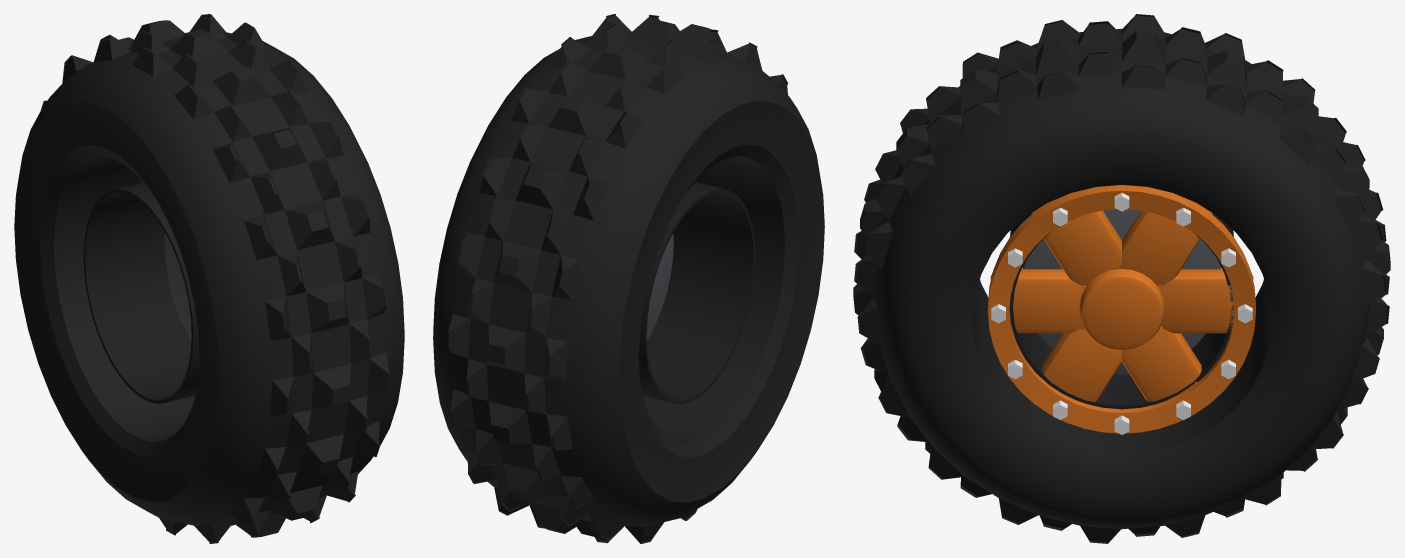
Rendered from wheel_baja.fbx.
The picture shows the model from 3 angles, left to right: view 1: azimuth 30°, elevation 25°; view 2: azimuth 150°, elevation 25°; view 3: azimuth 270°, elevation 25°; orthographic projection. The views are drawn at different scales.
Parts seen in each view (by area): view 1: tire_1, dark_1, brake_1; view 2: tire_1, dark_1, brake_1; view 3: tire_1, orange_1, dark_1, chrome_1, brake_1.
Boxes of the visible parts, x1,y1,x2,y2 form: tire_1: [14, 14, 404, 543]; dark_1: [83, 182, 199, 403]; brake_1: [165, 233, 191, 339]; tire_1: [433, 14, 824, 543]; dark_1: [638, 182, 755, 404]; brake_1: [647, 233, 673, 340]; tire_1: [853, 14, 1390, 543]; orange_1: [988, 185, 1255, 433]; dark_1: [1009, 213, 1234, 409]; chrome_1: [991, 193, 1252, 434]; brake_1: [1022, 209, 1221, 375].
Size of the model in its own units: 0.0271 by 0.066 by 0.066.
